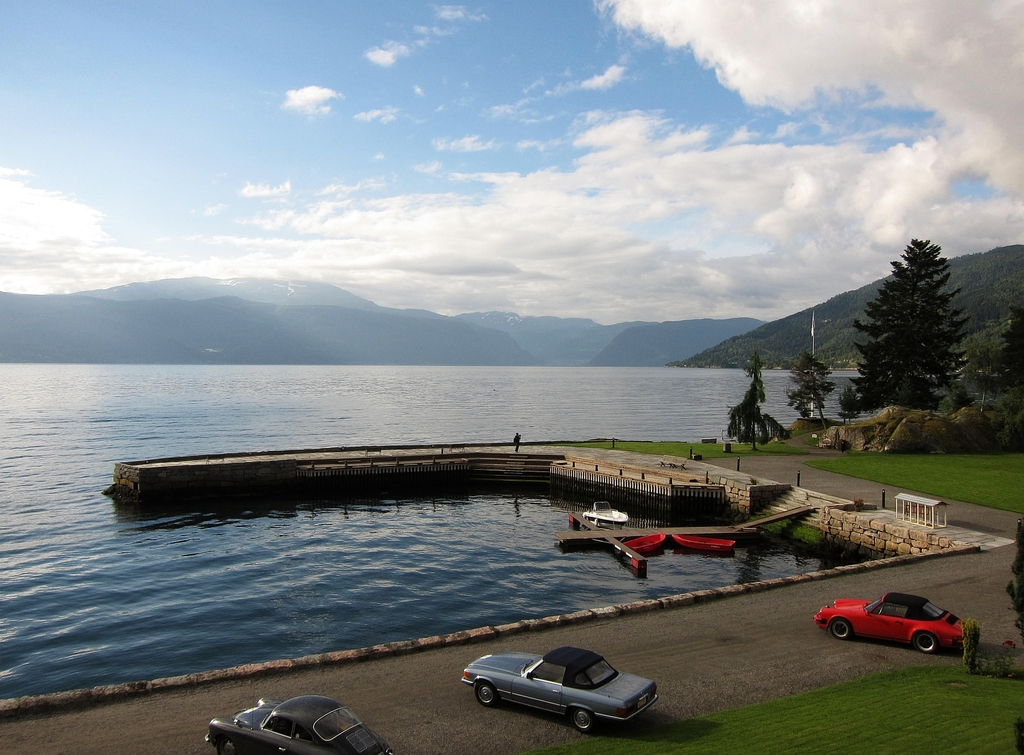Car: (461, 644, 658, 733), (202, 680, 396, 754), (813, 591, 982, 655)
